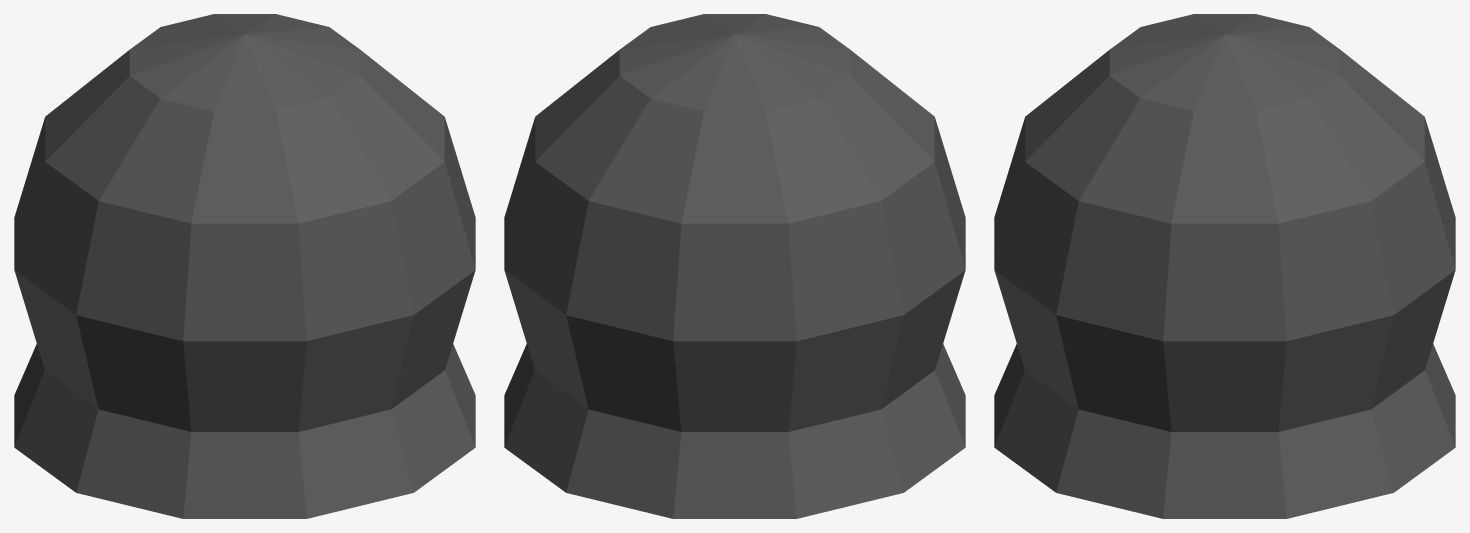
Rendered from light.gltf.
3 views of the same model, side by side, from view 1: azimuth 30°, elevation 25°; view 2: azimuth 150°, elevation 25°; view 3: azimuth 270°, elevation 25° (orthographic).
Parts seen in each view (by area): view 1: light, base; view 2: light, base; view 3: light, base.
Part boxes in pixels (x1,y1,x2,y2): light: (14, 14, 475, 431); base: (14, 344, 475, 518); light: (504, 14, 965, 431); base: (504, 344, 965, 518); light: (994, 14, 1455, 431); base: (994, 344, 1455, 518).
Size of the model in its own units: 0.0625 by 0.0641 by 0.0625.
Materials: 1 (1 with a texture image).
